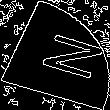N_W: (15, 27, 95, 83)
